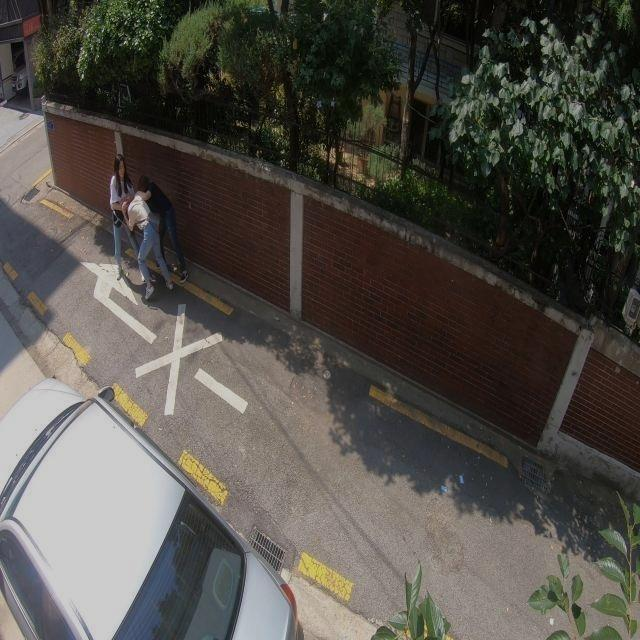fight: (106, 148, 188, 301)
